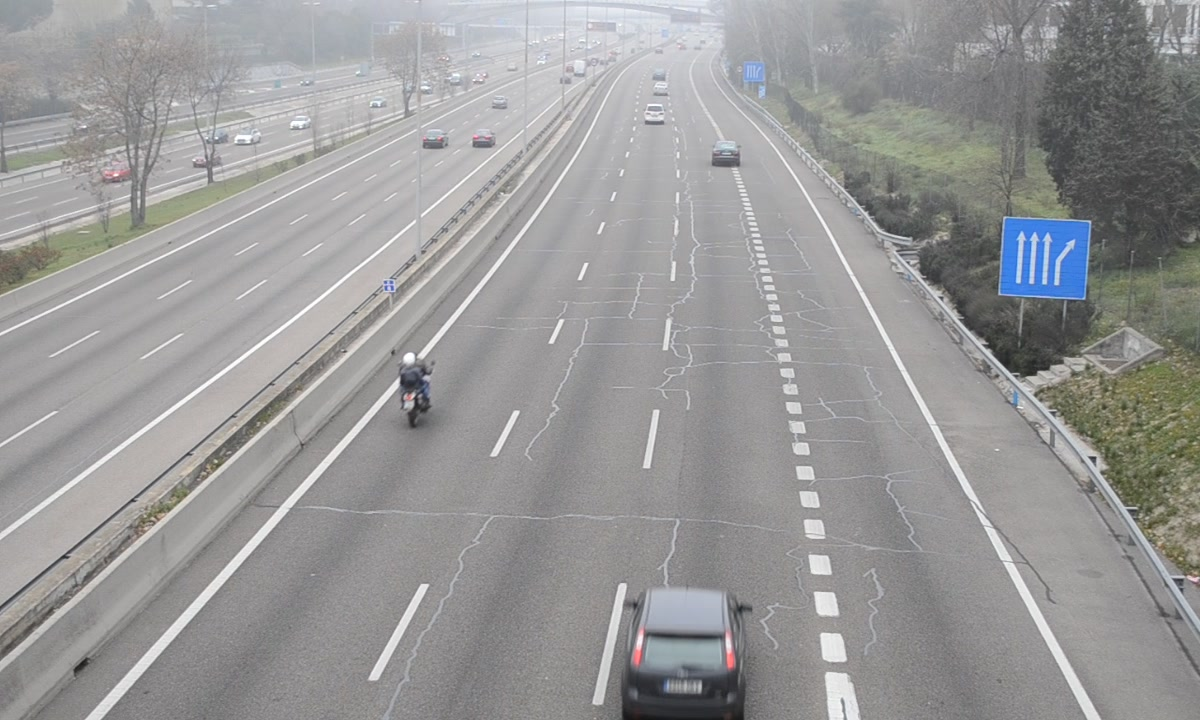car: (621, 587, 745, 720), (711, 140, 740, 167), (643, 104, 666, 126)
motorcycle: (395, 350, 434, 426)
